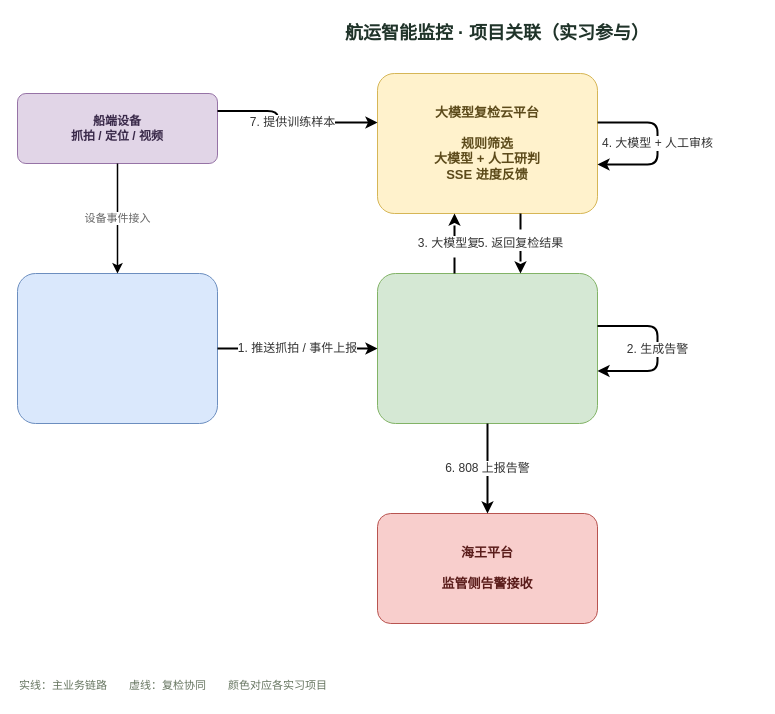
Some shapes in this 775 by 714 pixel diagram are drawn without their labels. Here are the shapes that lost their labels. From the top down, the box of each, then its label:
(16, 272, 218, 424): MAS 船端告警系统 船端事件采集 告警规则编排 轨迹上下文
(376, 272, 598, 424): 船舶管理云平台 JT808 设备接入 告警处理 / 证据留存 历史视频回放
